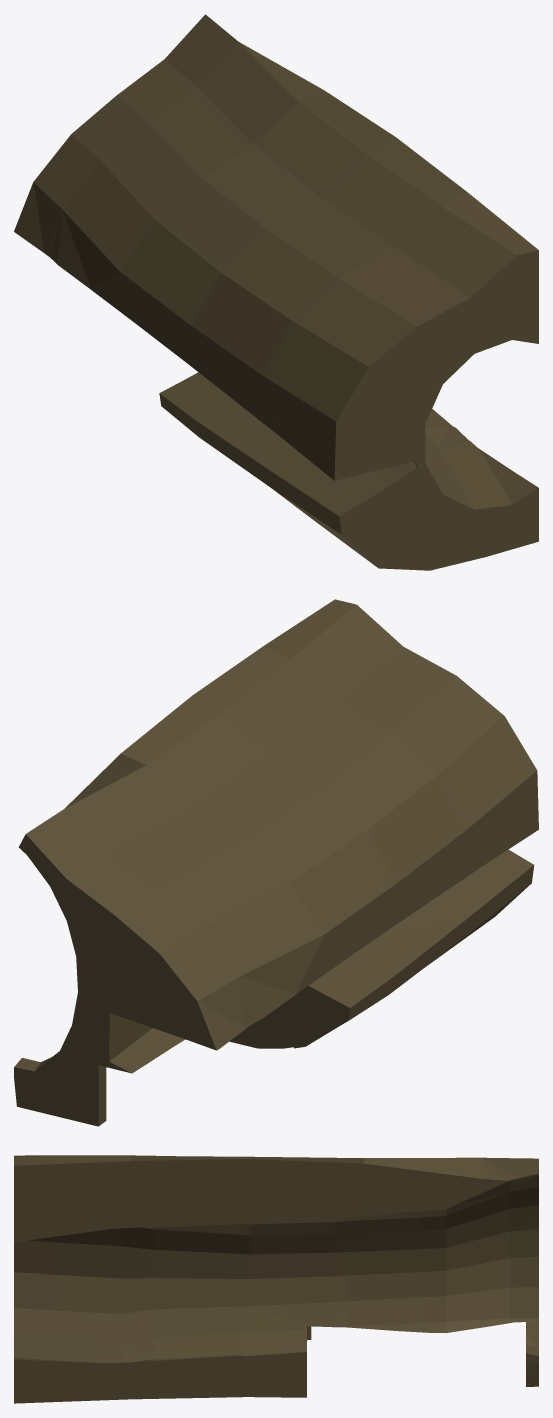
Rendered from fuel_aft_R.fbx.
3 renders of one model, top to bottom at view 1: azimuth 30°, elevation 25°; view 2: azimuth 150°, elevation 25°; view 3: azimuth 270°, elevation 25°, orthographic. The views are drawn at different scales.
Parts seen in each view (by area): view 1: fuel_aft_R; view 2: fuel_aft_R; view 3: fuel_aft_R.
Boxes of the visible parts, x1,y1,x2,y2 form: fuel_aft_R: (14, 14, 538, 570); fuel_aft_R: (14, 599, 538, 1126); fuel_aft_R: (14, 1155, 538, 1403).
Size of the model in its own units: 0.66 by 0.9326 by 1.8.
